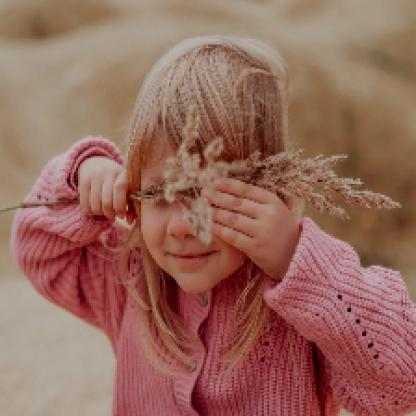child: (12, 38, 415, 415)
